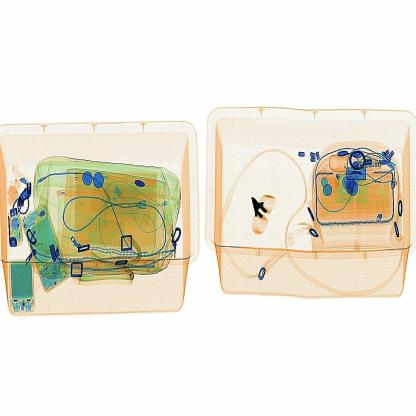gun: (236, 185, 278, 243)
